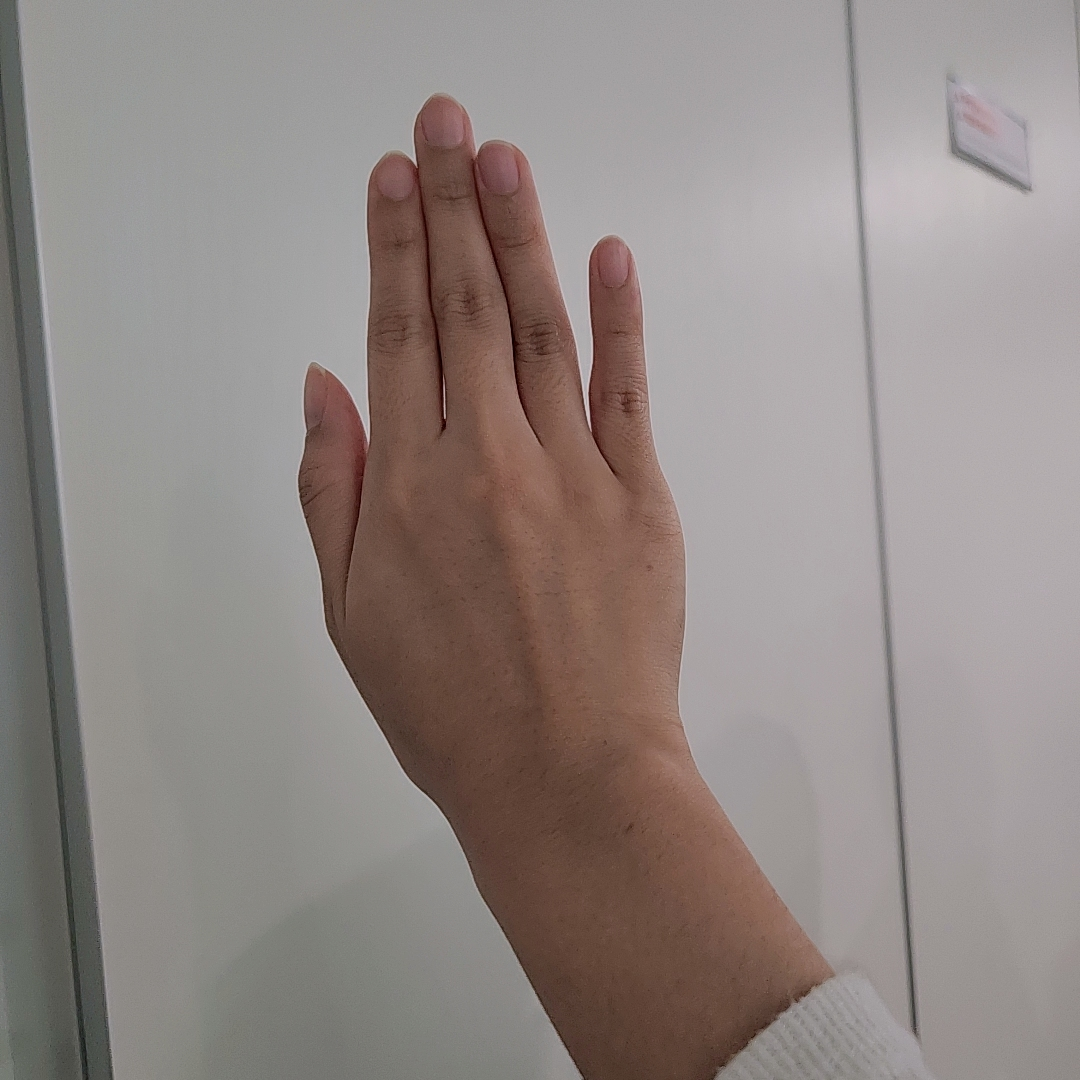me: (295, 93, 690, 806)
